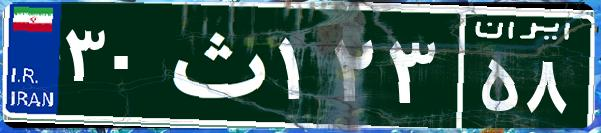0: (110, 28, 158, 105)
1: (273, 28, 330, 110)
2: (330, 28, 385, 110)
3: (385, 28, 445, 110), (57, 26, 110, 107)
5: (475, 38, 525, 113)
8: (525, 38, 570, 115)
ث: (158, 15, 273, 115)
